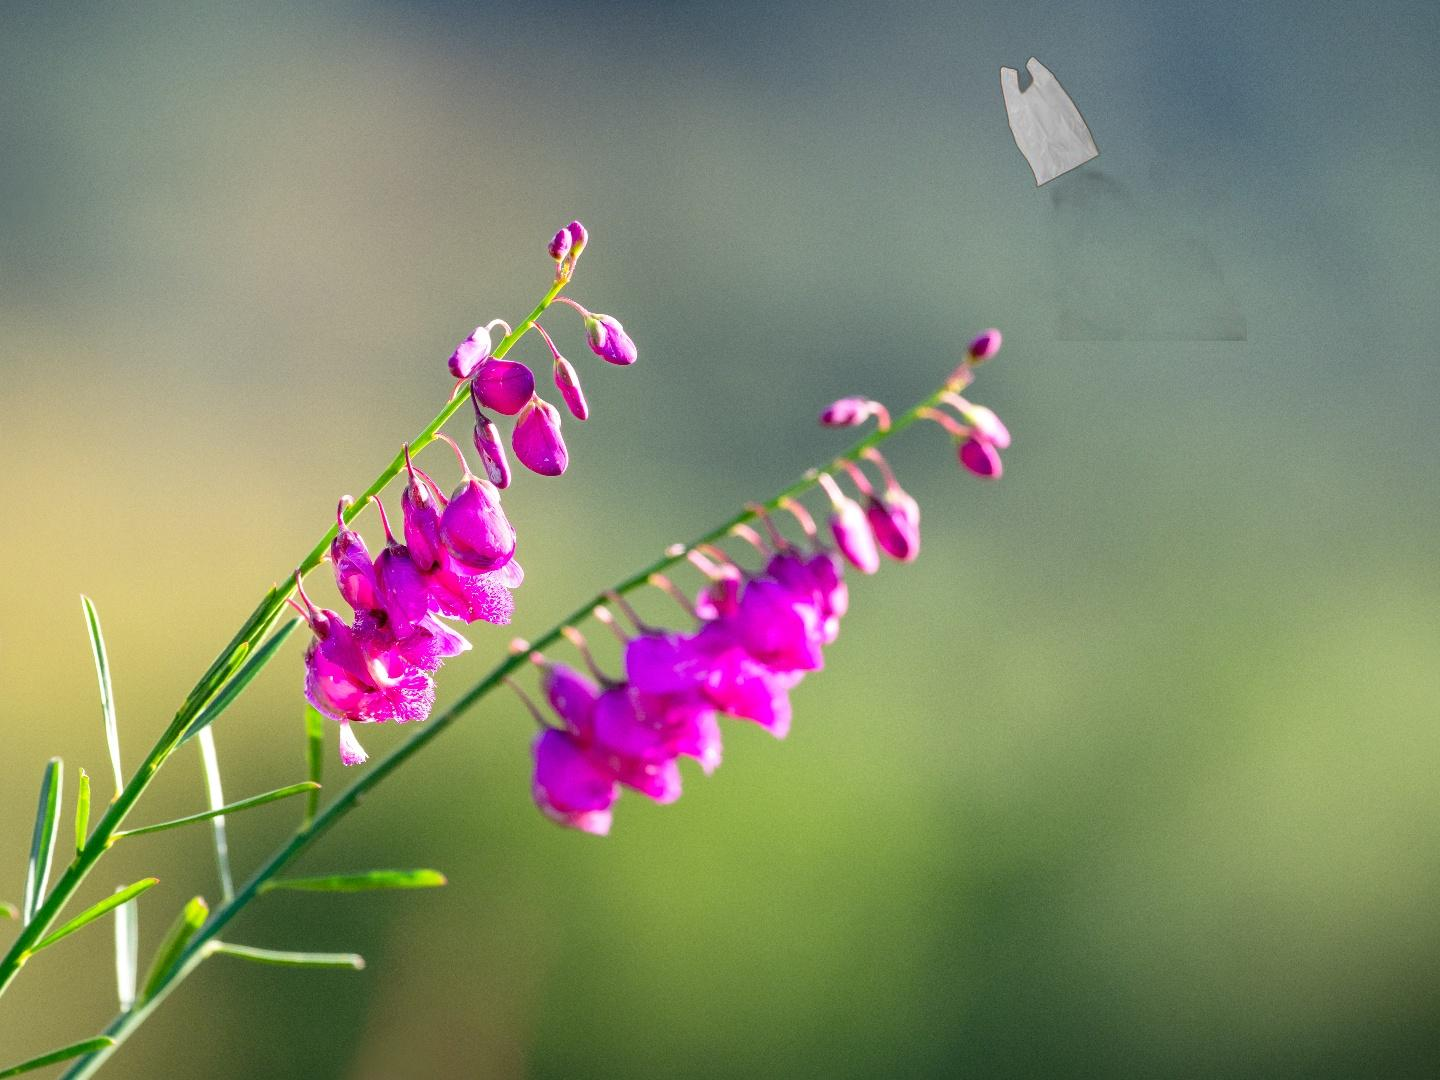plastic-bag: (997, 41, 1247, 341)
